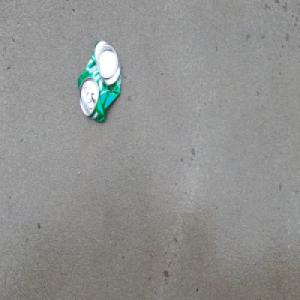SodaCan: (76, 37, 123, 125)
